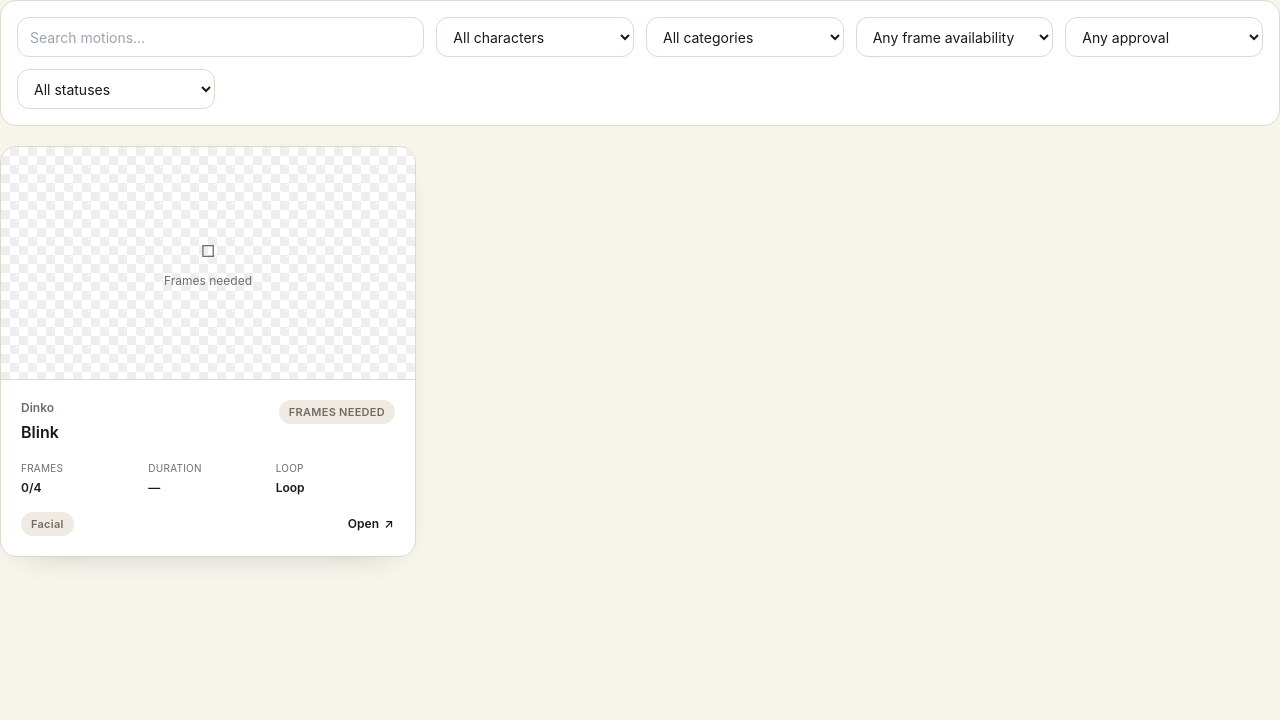
Sprite Studio › filters the motion library by character and search
expect the heading "Blink" is shown: met, box [21, 420, 59, 444]
Type "dance" into the field with placeholder "Search motions…" at (221, 37), box [17, 17, 424, 57]
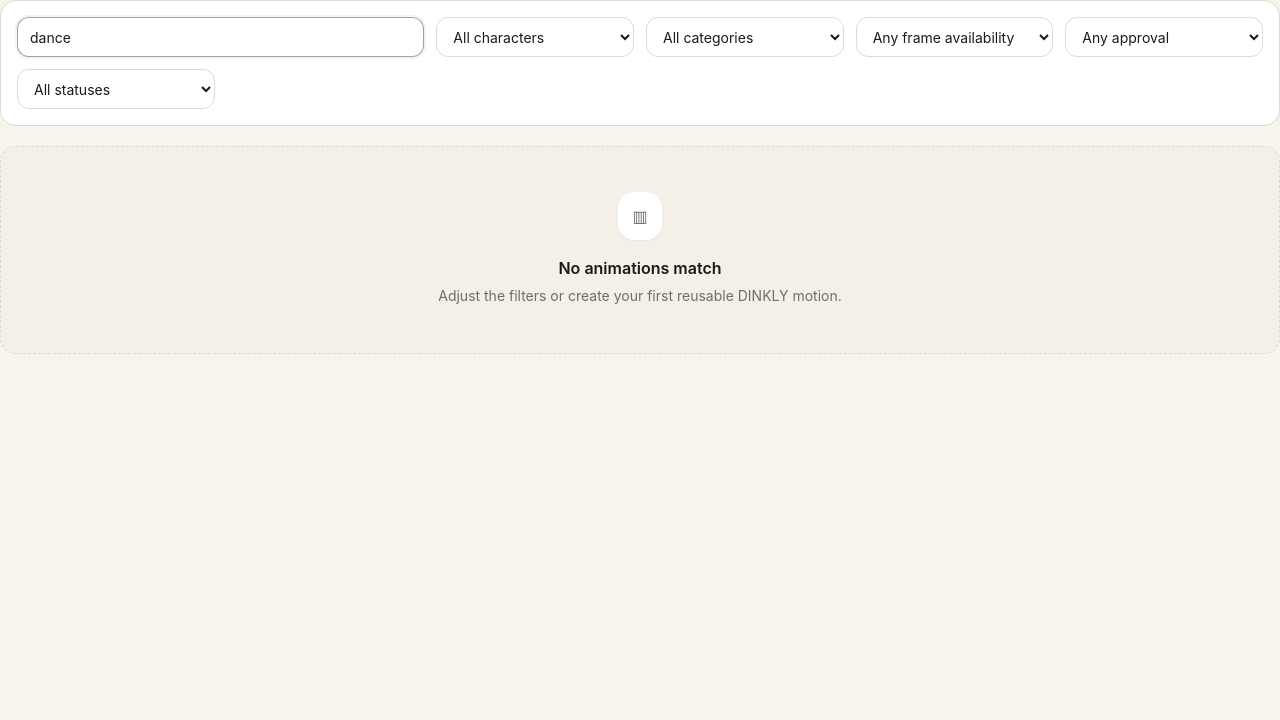
expect the heading "Blink" is gone: met
